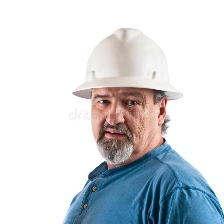helmet: (65, 27, 191, 97)
no-vest: (59, 139, 215, 224)
person: (57, 34, 223, 224)
